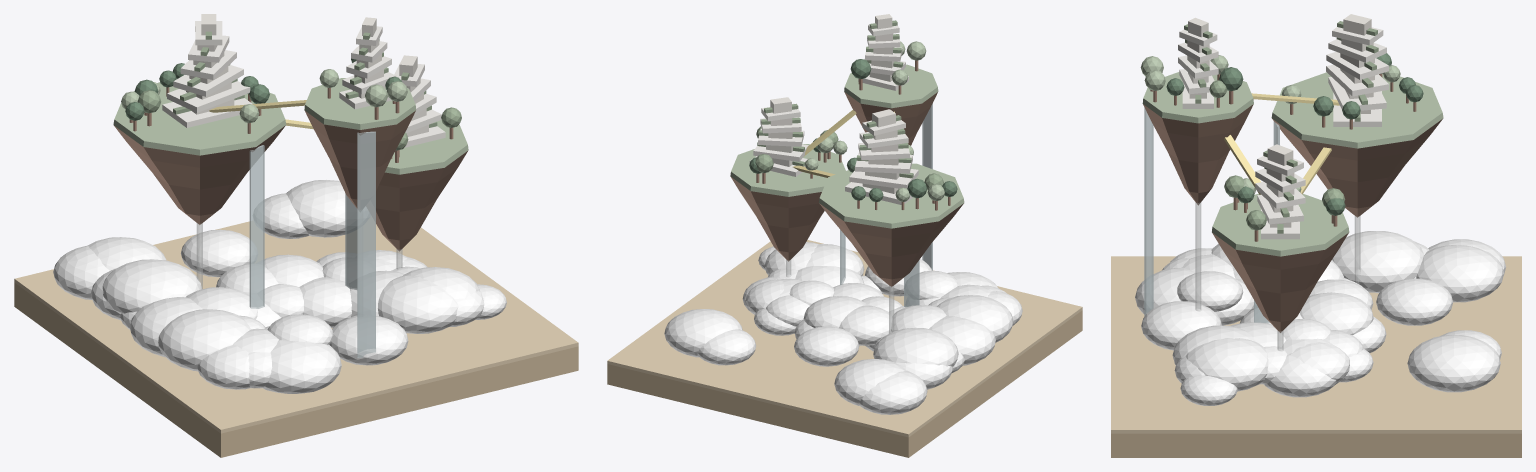
Rendered from pavillon_01.glb.
3 renders of one model, left to right at view 1: azimuth 30°, elevation 25°; view 2: azimuth 150°, elevation 25°; view 3: azimuth 270°, elevation 25°, orthographic. The views are drawn at different scales.
Visible parts, largest first — view 1: pavillon_01_nuage, pavillon_01_socle, pavillon_01_brun, pavillon_01_chant, pavillon_01_vert, pavillon_01_carton, pavillon_01_eau, pavillon_01_carton2, pavillon_01_vert2, pavillon_01_vertf, pavillon_01_jaune; view 2: pavillon_01_nuage, pavillon_01_socle, pavillon_01_vert, pavillon_01_chant, pavillon_01_brun, pavillon_01_carton, pavillon_01_carton2, pavillon_01_vert2, pavillon_01_eau, pavillon_01_vertf, pavillon_01_jaune; view 3: pavillon_01_nuage, pavillon_01_socle, pavillon_01_brun, pavillon_01_vert, pavillon_01_chant, pavillon_01_carton, pavillon_01_carton2, pavillon_01_vert2, pavillon_01_vertf, pavillon_01_eau, pavillon_01_jaune, pavillon_01_acryl.
Boxes of the visible parts, left/top/right/bottom form: pavillon_01_nuage: left=53, top=180, right=506, bottom=393; pavillon_01_socle: left=14, top=216, right=578, bottom=433; pavillon_01_brun: left=114, top=87, right=467, bottom=251; pavillon_01_chant: left=14, top=282, right=578, bottom=457; pavillon_01_vert: left=113, top=69, right=468, bottom=174; pavillon_01_carton: left=162, top=21, right=445, bottom=147; pavillon_01_eau: left=249, top=131, right=375, bottom=357; pavillon_01_carton2: left=186, top=14, right=428, bottom=136; pavillon_01_vert2: left=137, top=31, right=461, bottom=150; pavillon_01_vertf: left=125, top=58, right=401, bottom=120; pavillon_01_jaune: left=209, top=100, right=313, bottom=129; pavillon_01_nuage: left=664, top=242, right=1022, bottom=414; pavillon_01_socle: left=607, top=240, right=1082, bottom=437; pavillon_01_vert: left=730, top=41, right=964, bottom=228; pavillon_01_chant: left=607, top=310, right=1082, bottom=457; pavillon_01_brun: left=730, top=60, right=963, bottom=286; pavillon_01_carton: left=749, top=24, right=918, bottom=204; pavillon_01_carton2: left=766, top=14, right=899, bottom=193; pavillon_01_vert2: left=755, top=20, right=943, bottom=190; pavillon_01_eau: left=840, top=103, right=932, bottom=307; pavillon_01_vertf: left=749, top=59, right=957, bottom=202; pavillon_01_jaune: left=793, top=110, right=894, bottom=177; pavillon_01_nuage: left=1135, top=231, right=1505, bottom=405; pavillon_01_socle: left=1111, top=256, right=1521, bottom=433; pavillon_01_brun: left=1143, top=74, right=1442, bottom=332; pavillon_01_vert: left=1140, top=55, right=1443, bottom=256; pavillon_01_chant: left=1111, top=433, right=1521, bottom=457; pavillon_01_carton: left=1178, top=27, right=1388, bottom=239; pavillon_01_carton2: left=1187, top=14, right=1374, bottom=227; pavillon_01_vert2: left=1184, top=21, right=1378, bottom=233; pavillon_01_vertf: left=1166, top=53, right=1423, bottom=215; pavillon_01_eau: left=1144, top=107, right=1279, bottom=323; pavillon_01_jaune: left=1224, top=93, right=1339, bottom=194; pavillon_01_acryl: left=1195, top=202, right=1360, bottom=351.
Bounding box in the file's own units: 0.4 × 0.382 × 0.4.
